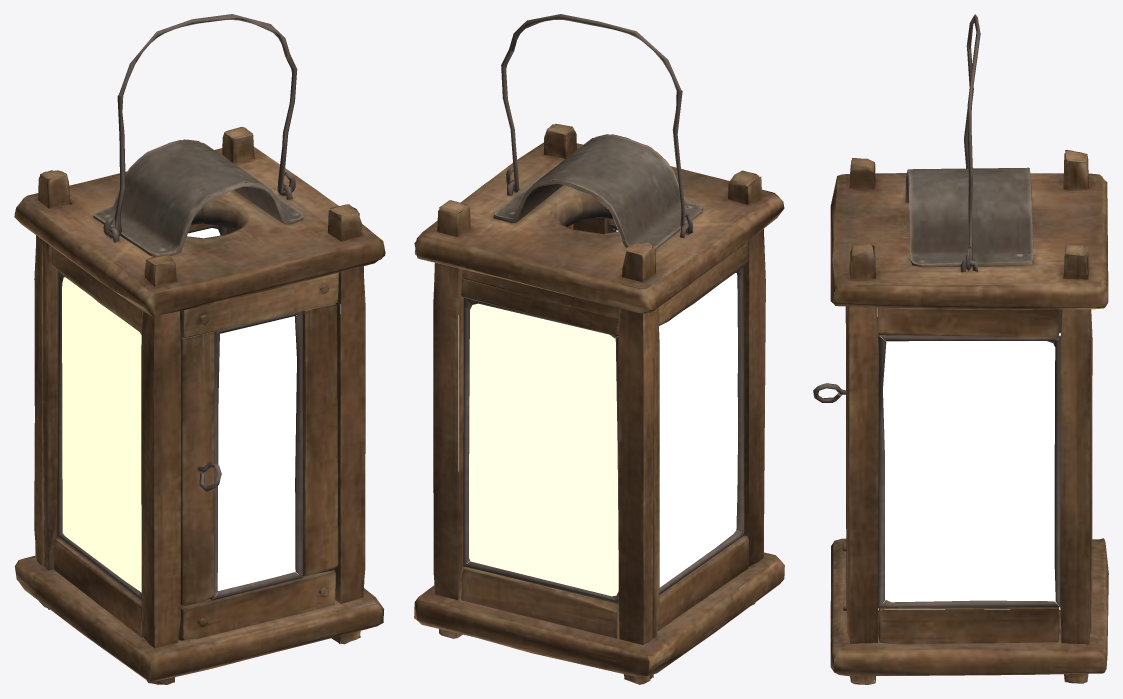
Rendered from lantern.glb.
3 views of the same model, side by side, from view 1: azimuth 30°, elevation 25°; view 2: azimuth 150°, elevation 25°; view 3: azimuth 270°, elevation 25° (orthographic).
Visible parts, largest first — view 1: wooden_lantern_01; view 2: wooden_lantern_01; view 3: wooden_lantern_01.
Boxes of the visible parts, x1,y1,x2,y2 form: wooden_lantern_01: (14,14,385,684); wooden_lantern_01: (414,14,784,684); wooden_lantern_01: (813,14,1108,684).
Bounding box in the file's own units: 0.2212 × 0.5289 × 0.2346.
2 materials, 1 textured.
